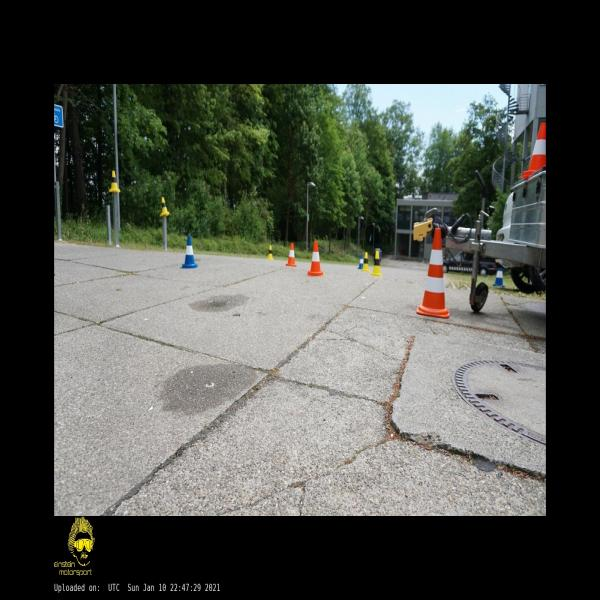blue_cone: (180, 236, 198, 268), (492, 267, 505, 286), (358, 254, 364, 269)
large_orange_cone: (416, 228, 450, 319)
orange_cone: (519, 122, 545, 178), (308, 242, 324, 276), (286, 242, 296, 266)
yellow_cone: (371, 250, 382, 276), (109, 170, 120, 192), (159, 196, 170, 216), (362, 253, 370, 271), (267, 245, 274, 259)
